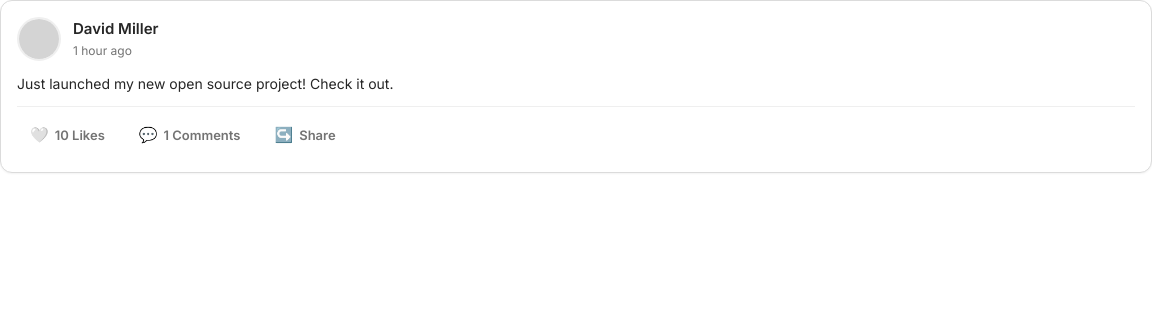
Test: Social Media Dashboard - Core Component Suite › Post Component (State Management & Data Flow) › adds a new comment interactively
Click the button with aria-label "toggle comments" at (190, 135), box [126, 115, 254, 156]
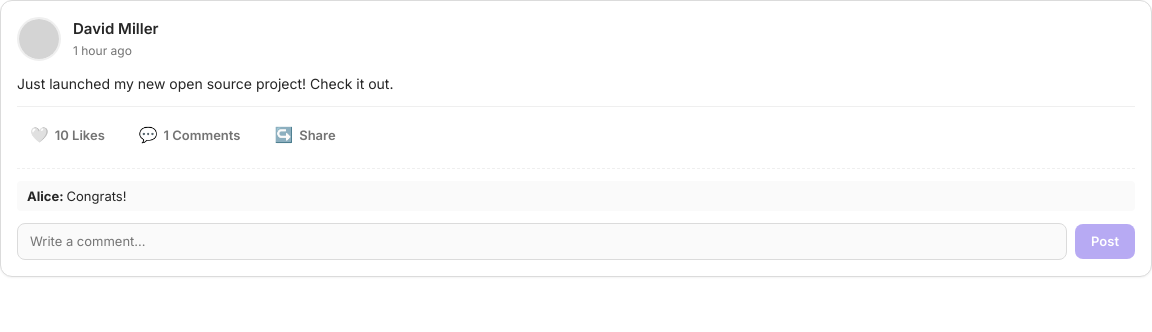
Type "Great job!" into the field with placeholder "Write a comment..." at (542, 241), box [17, 223, 1067, 260]
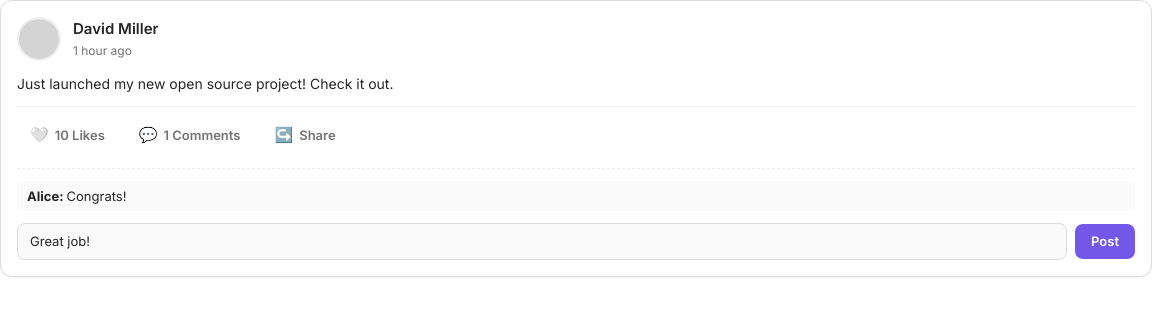
Click the button "Post" at (1105, 241), box [1075, 224, 1135, 259]
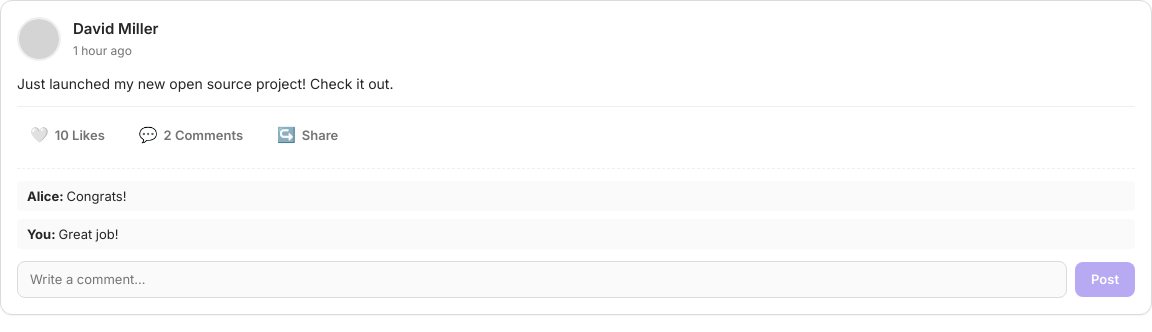
Expected: the text "Great job!" is shown, [59, 226, 118, 242]
